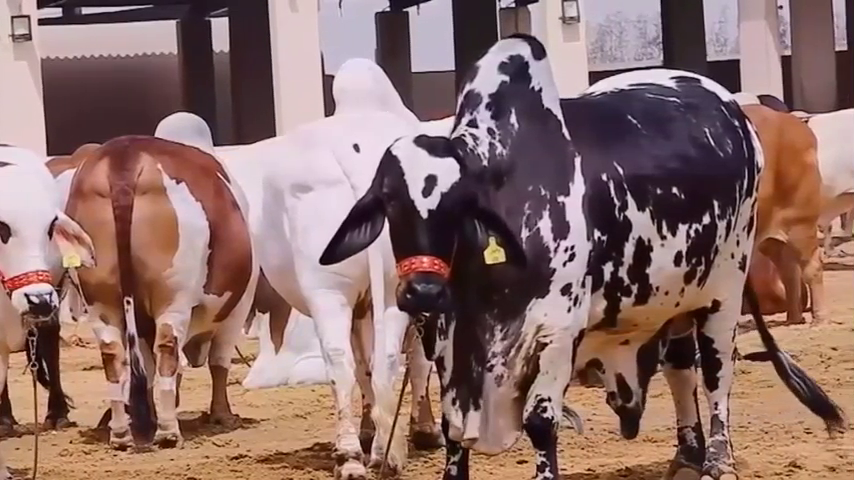bo: (316, 36, 848, 472), (253, 56, 443, 480), (59, 119, 257, 460), (1, 139, 94, 425), (730, 94, 820, 326), (786, 85, 854, 254)
